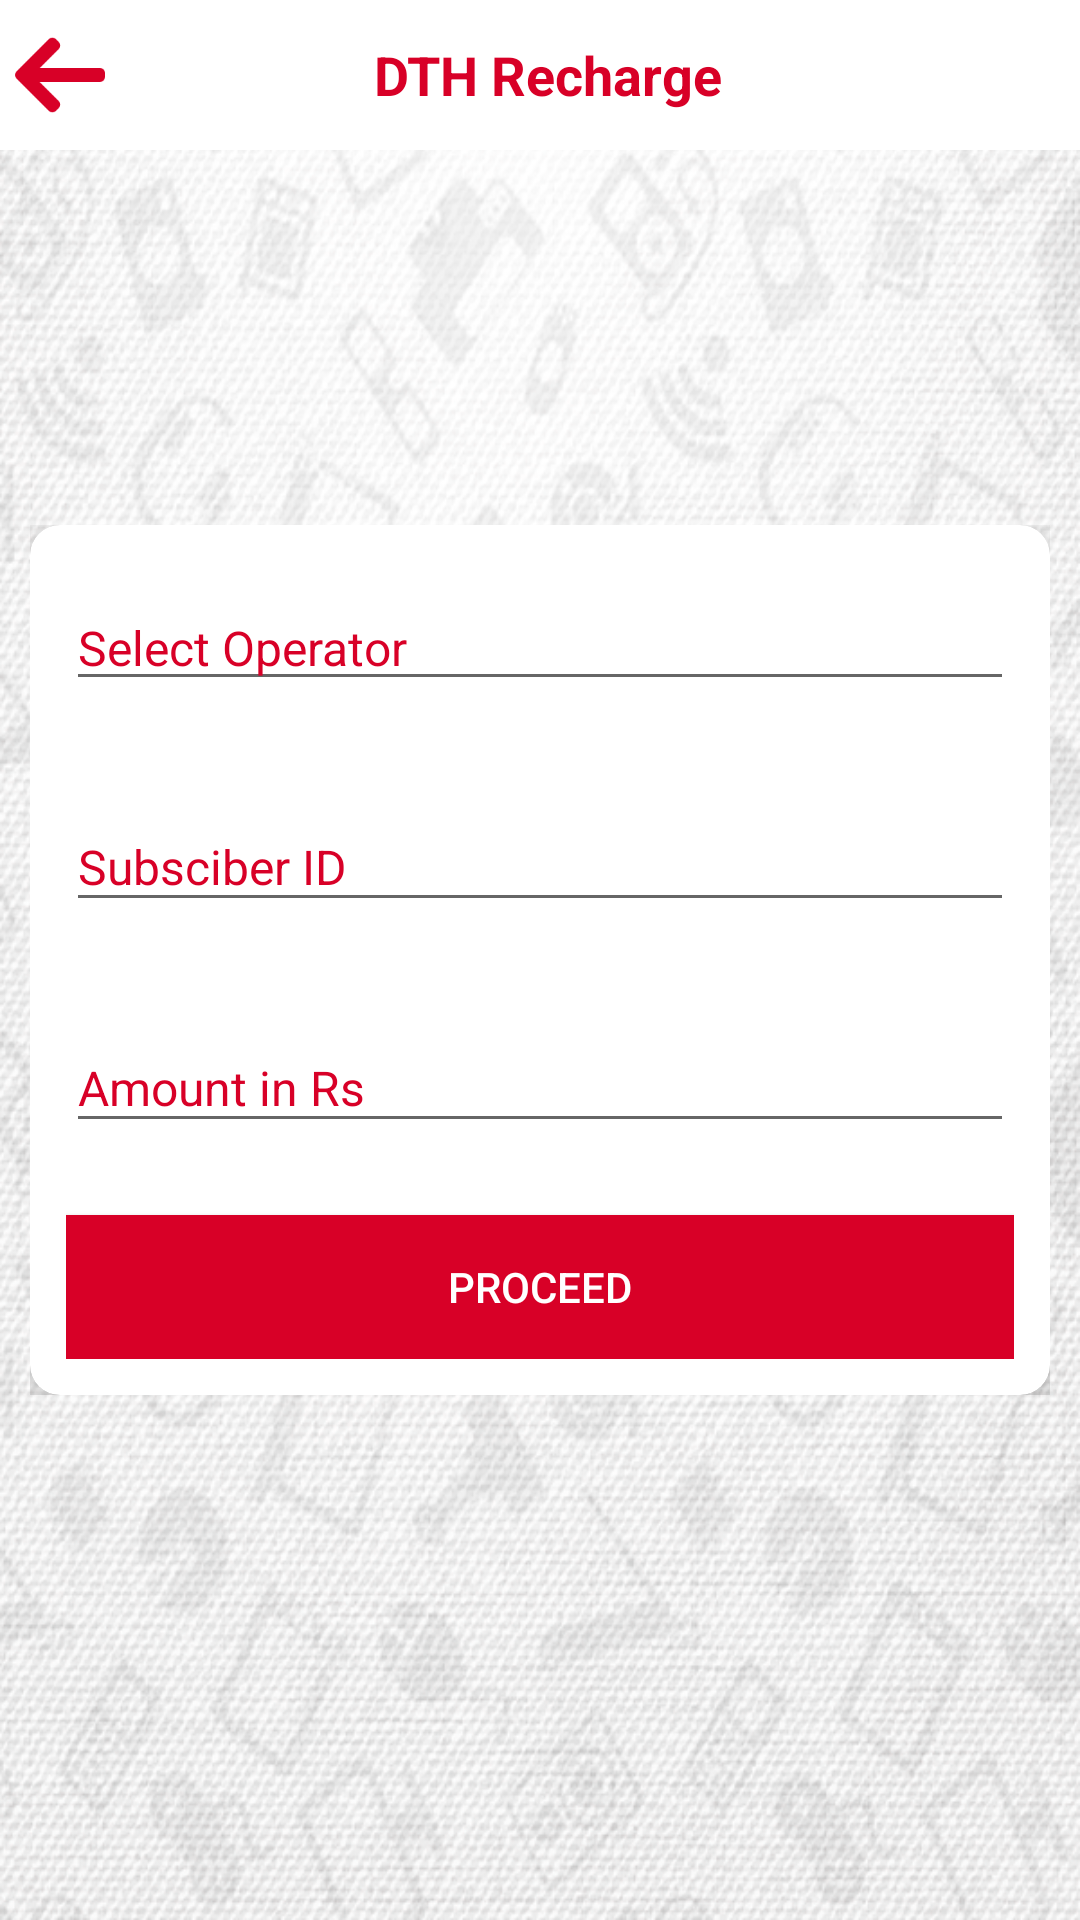

Icons on this 1080px×1920px Android screen, each with its box as box=[x1, y1, x2, y2]:
back: box=[15, 37, 105, 113]
